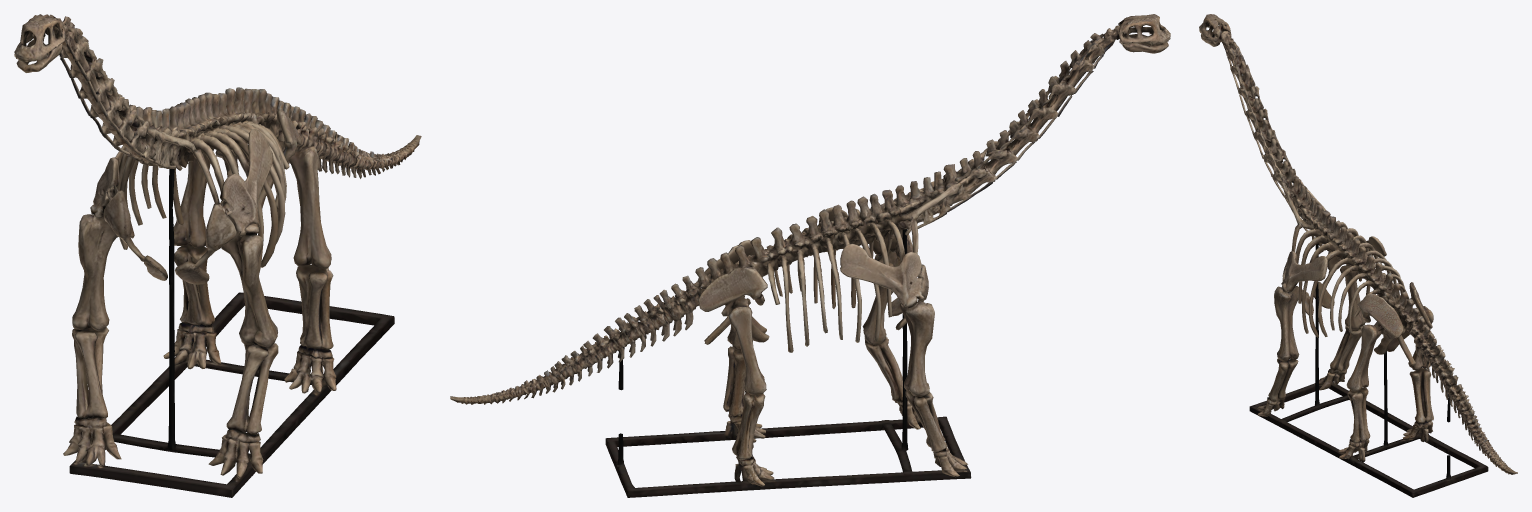
The model's file is sauropod_skeleton.glb.
3 renders of one model, left to right at view 1: azimuth 30°, elevation 25°; view 2: azimuth 150°, elevation 25°; view 3: azimuth 270°, elevation 25°, orthographic. The views are drawn at different scales.
Parts seen in each view (by area): view 1: tripo_node_4461ab4e-fb9e-47e7-b042-6a7fce0695fb; view 2: tripo_node_4461ab4e-fb9e-47e7-b042-6a7fce0695fb; view 3: tripo_node_4461ab4e-fb9e-47e7-b042-6a7fce0695fb.
Boxes of the visible parts, bbox=[...] form: tripo_node_4461ab4e-fb9e-47e7-b042-6a7fce0695fb: bbox=[14, 14, 421, 497]; tripo_node_4461ab4e-fb9e-47e7-b042-6a7fce0695fb: bbox=[450, 14, 1170, 497]; tripo_node_4461ab4e-fb9e-47e7-b042-6a7fce0695fb: bbox=[1199, 14, 1517, 497].
Size of the model in its own units: 0.9785 by 0.781 by 0.6864.
Materials: 1 (1 with a texture image).
